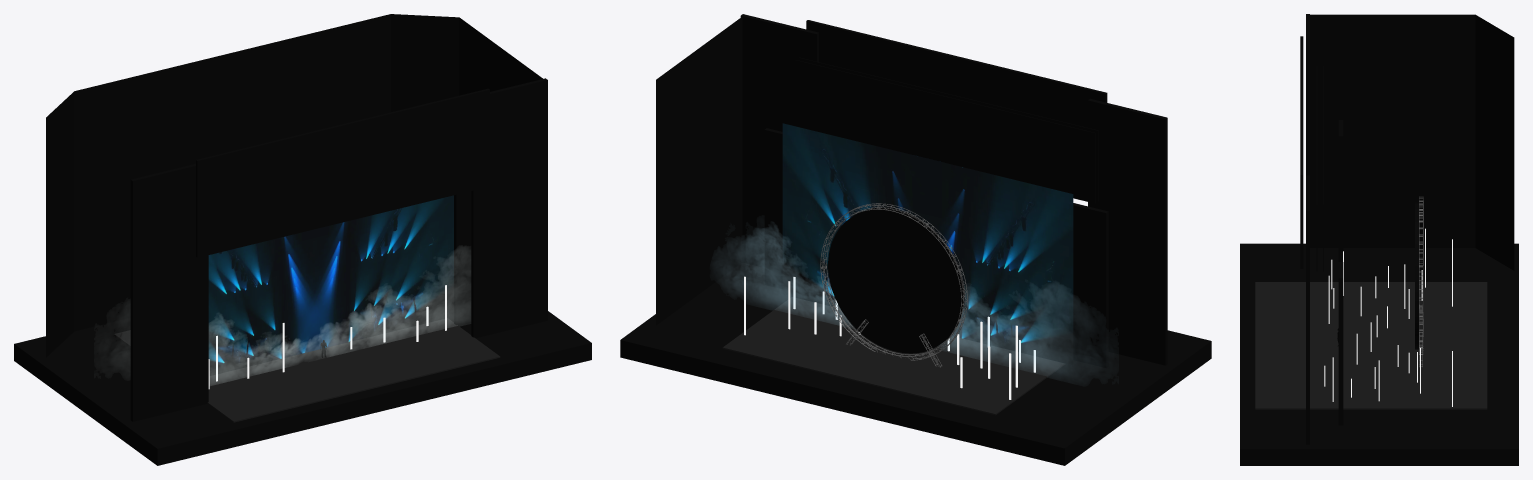
Rendered from concert-transformed.glb.
The picture shows the model from 3 angles, left to right: view 1: azimuth 30°, elevation 25°; view 2: azimuth 150°, elevation 25°; view 3: azimuth 270°, elevation 25°; orthographic projection. The views are drawn at different scales.
Visible parts, largest first — view 1: Env_env_0, Lights_lights_0, Podium_podium_0, Smoke_smoke_0, Poles_poles_0; view 2: Env_env_0, Lights_lights_0, Podium_podium_0, Smoke_smoke_0, Truss_truss_0, Poles_poles_0; view 3: Env_env_0, Podium_podium_0, Poles_poles_0, Truss_truss_0.
Part boxes in pixels (x1,y1,x2,y2): Env_env_0: (14,14,591,465); Lights_lights_0: (208,195,453,375); Podium_podium_0: (114,318,500,422); Smoke_smoke_0: (209,256,470,384); Poles_poles_0: (208,285,446,389); Env_env_0: (620,14,1211,465); Lights_lights_0: (782,123,1073,365); Podium_podium_0: (722,297,1065,415); Smoke_smoke_0: (734,229,1069,372); Truss_truss_0: (820,203,967,367); Poles_poles_0: (744,276,1035,399); Env_env_0: (1240,14,1518,465); Podium_podium_0: (1255,282,1487,409); Poles_poles_0: (1324,228,1452,406); Truss_truss_0: (1419,196,1423,366).
Size of the model in its own units: 519 by 302 by 297.
Materials: 8 (3 with a texture image).
